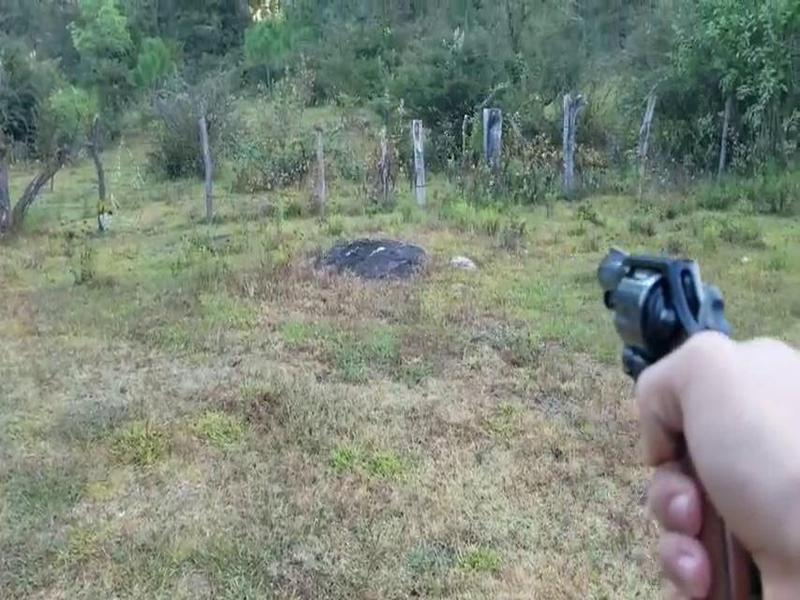Revolver: (591, 204, 773, 600)
